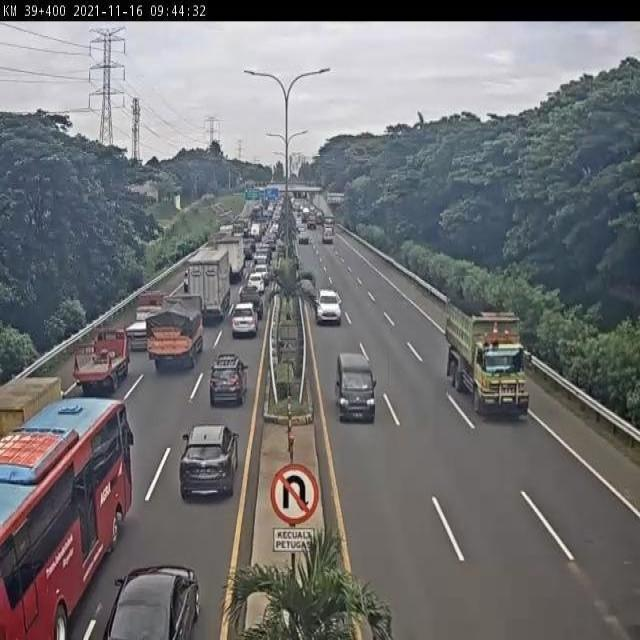Bus: (0, 394, 138, 640)
Car: (98, 564, 200, 639), (178, 422, 239, 500), (208, 352, 250, 405), (229, 302, 259, 338), (314, 289, 342, 326), (246, 271, 267, 295), (253, 263, 270, 284), (242, 236, 256, 251), (242, 243, 252, 261), (298, 229, 310, 244), (297, 223, 306, 234)
Truck: (445, 304, 529, 418), (145, 293, 204, 375), (70, 326, 134, 396), (0, 372, 63, 434), (185, 249, 232, 324), (125, 289, 166, 350), (216, 235, 246, 283), (306, 212, 318, 230), (250, 223, 261, 240), (292, 200, 301, 214)
Van: (334, 351, 379, 426)
